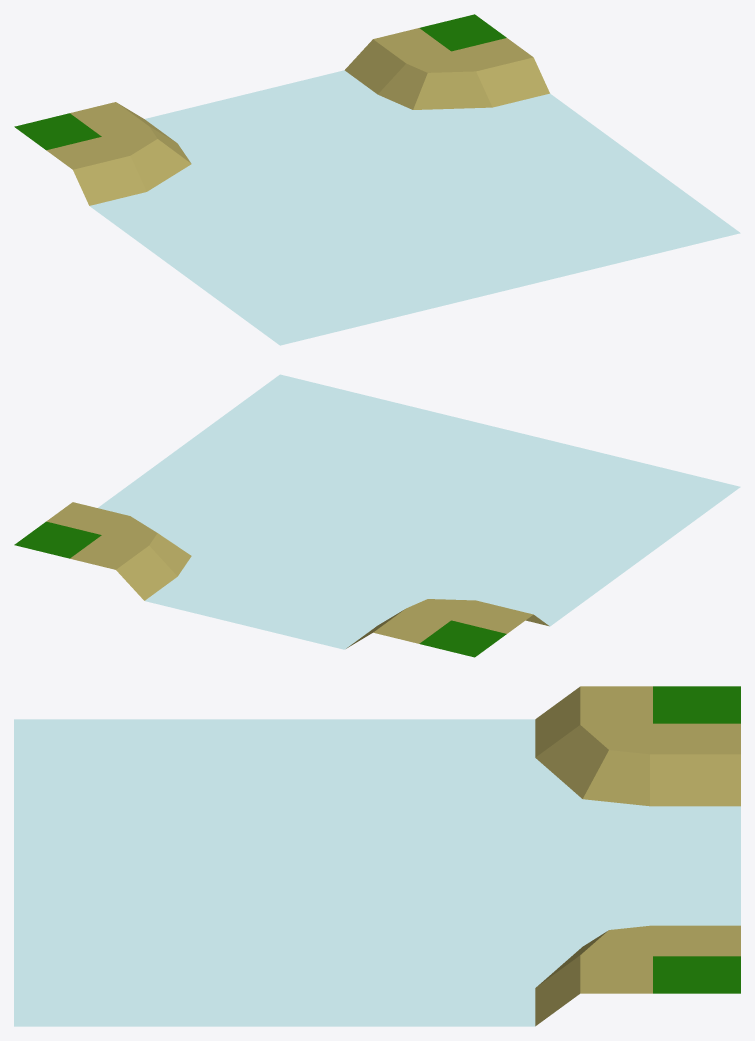
Rendered from ground_riverSideOpen.fbx.
The picture shows the model from 3 angles, top to bottom: view 1: azimuth 30°, elevation 25°; view 2: azimuth 150°, elevation 25°; view 3: azimuth 270°, elevation 25°; orthographic projection. The views are drawn at different scales.
Visible parts, largest first — view 1: ground_riverSideOpen; view 2: ground_riverSideOpen; view 3: ground_riverSideOpen.
Boxes of the visible parts, x1,y1,x2,y2 form: ground_riverSideOpen: (14,14,740,345); ground_riverSideOpen: (14,374,740,657); ground_riverSideOpen: (14,686,740,1026).
Bounding box in the file's own units: 100 × 5 × 100.
